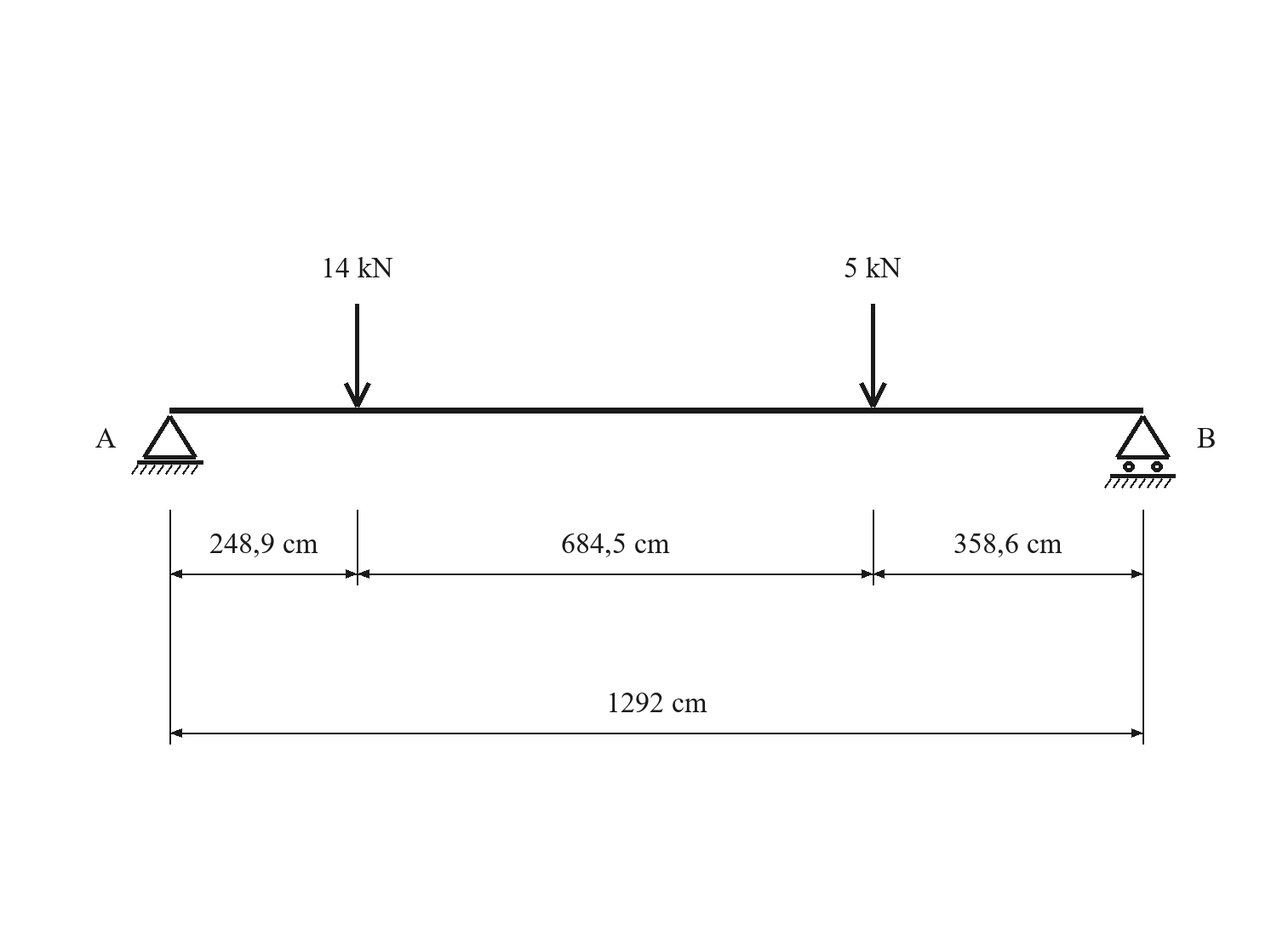pin_support: (131, 415, 203, 475)
point_load: (859, 304, 887, 408), (344, 304, 371, 408)
roller_support: (1104, 415, 1176, 488)
